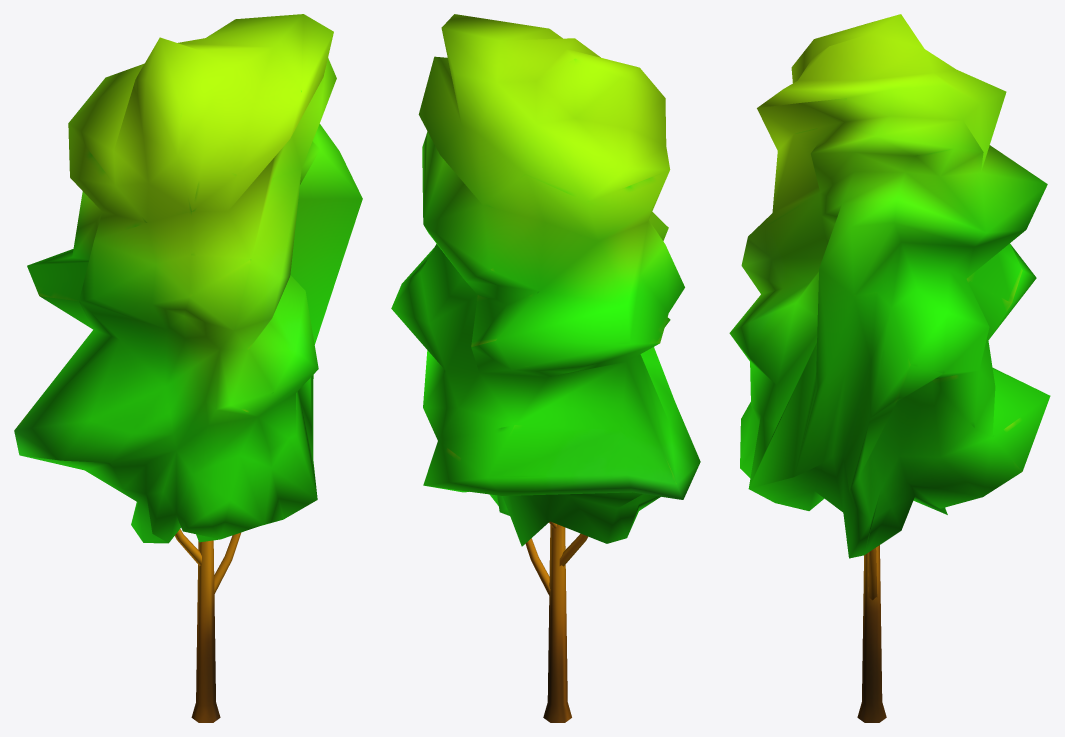
Rendered from TreeStyle3Blue_07.fbx.
The picture shows the model from 3 angles, left to right: view 1: azimuth 30°, elevation 25°; view 2: azimuth 150°, elevation 25°; view 3: azimuth 270°, elevation 25°; orthographic projection.
Visible parts, largest first — view 1: TreeStyle3_07; view 2: TreeStyle3_07; view 3: TreeStyle3_07.
Part boxes in pixels (box(x1,y1,x2,y2)): TreeStyle3_07: box(14, 14, 362, 722); TreeStyle3_07: box(391, 14, 700, 722); TreeStyle3_07: box(729, 14, 1050, 722).
Bounding box in the file's own units: 858 × 1894 × 801.
